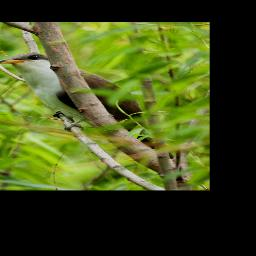Cuckoo: (0, 52, 187, 160)
